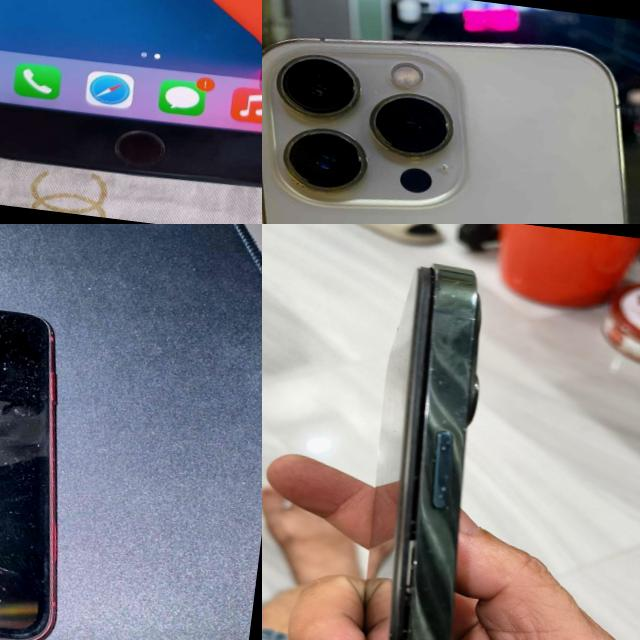scratch: (405, 256, 490, 423), (369, 543, 459, 640), (398, 426, 473, 530), (0, 431, 48, 539), (0, 365, 42, 451), (0, 290, 39, 326)
